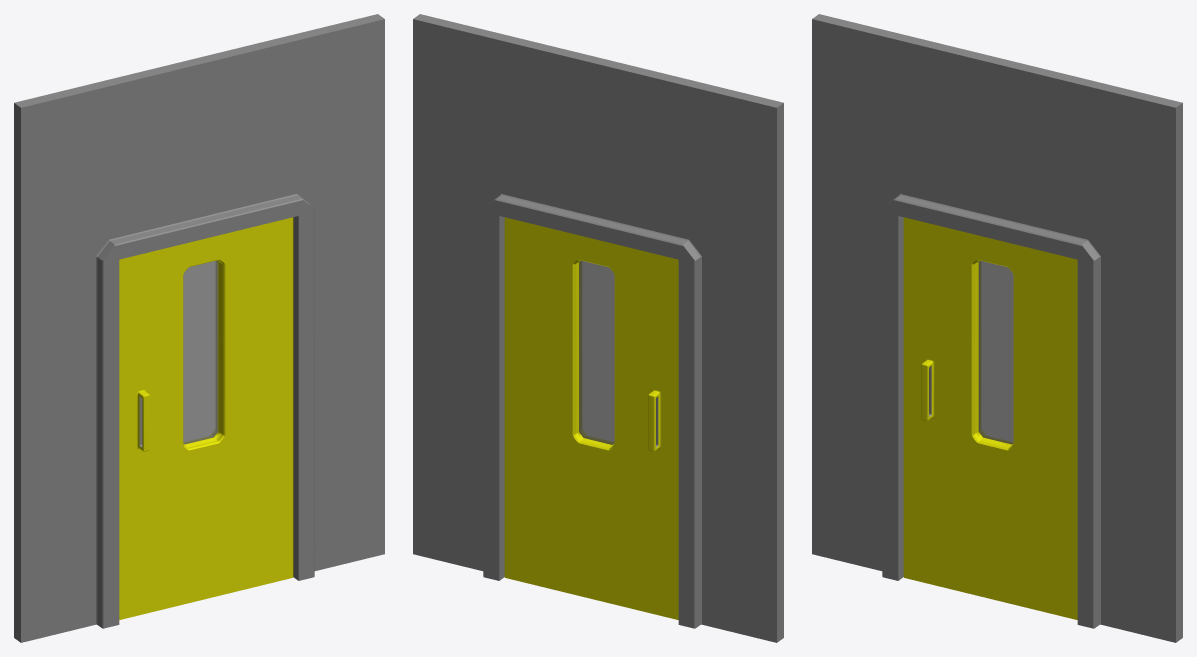
The model's file is Single_LabDoor.fbx.
3 renders of one model, left to right at view 1: azimuth 30°, elevation 25°; view 2: azimuth 150°, elevation 25°; view 3: azimuth 330°, elevation 25°, orthographic.
Parts seen in each view (by area): view 1: Single_LabDoor_Wall, Single_LabDoor; view 2: Single_LabDoor_Wall, Single_LabDoor; view 3: Single_LabDoor_Wall, Single_LabDoor.
Boxes of the visible parts, <box> form: Single_LabDoor_Wall: <box>14,14,384,642</box>; Single_LabDoor: <box>119,217,293,619</box>; Single_LabDoor_Wall: <box>413,14,783,642</box>; Single_LabDoor: <box>504,217,678,619</box>; Single_LabDoor_Wall: <box>812,14,1182,642</box>; Single_LabDoor: <box>903,217,1077,619</box>.
Bounding box in the file's own units: 247 × 347 × 24.22.
